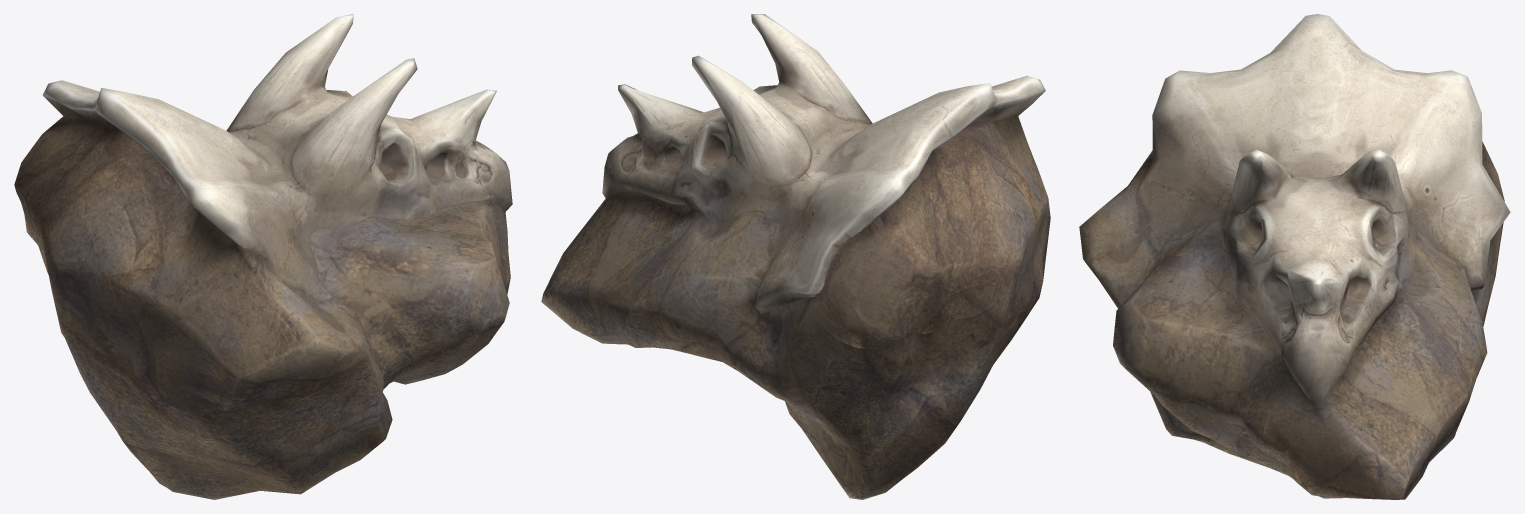
The model's file is SM_FossilNode_1.fbx.
3 views of the same model, side by side, from view 1: azimuth 30°, elevation 25°; view 2: azimuth 150°, elevation 25°; view 3: azimuth 270°, elevation 25° (orthographic). The views are drawn at different scales.
Parts seen in each view (by area): view 1: SM_FossilNode_1; view 2: SM_FossilNode_1; view 3: SM_FossilNode_1.
Part boxes in pixels (left/top/right/bottom): SM_FossilNode_1: left=14, top=14, right=512, bottom=499; SM_FossilNode_1: left=541, top=14, right=1050, bottom=499; SM_FossilNode_1: left=1079, top=14, right=1510, bottom=499.
Bounding box in the file's own units: 1.22 × 1.08 × 1.02.
